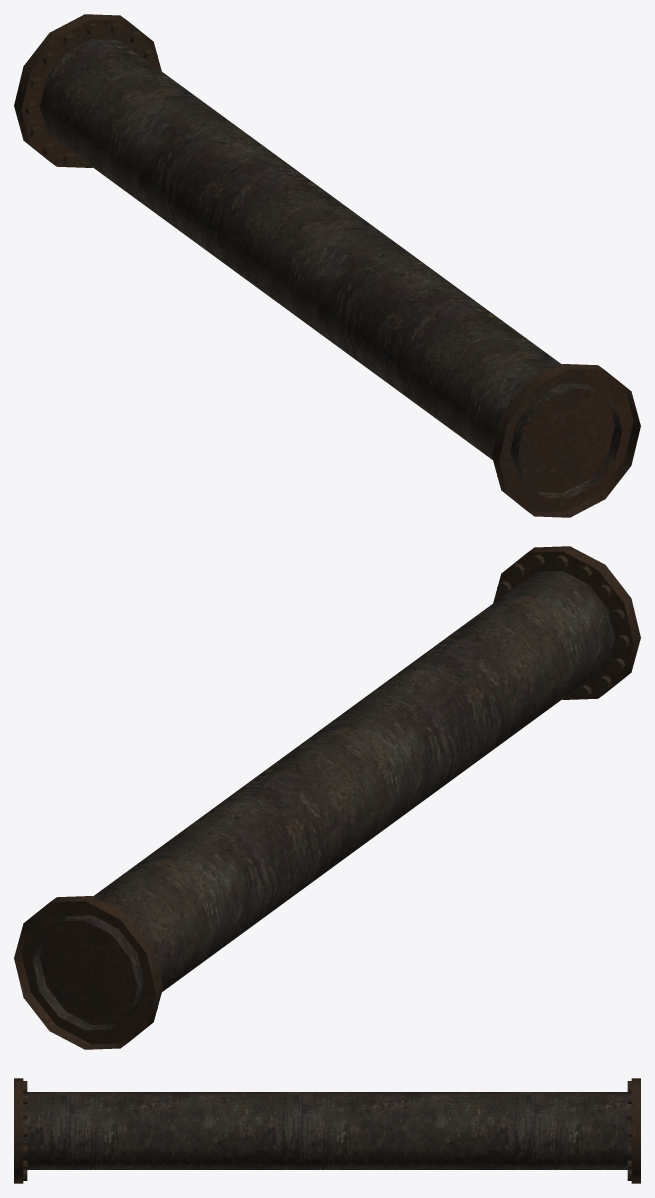
The model's file is pipe_bx_1.obj.
3 renders of one model, top to bottom at view 1: azimuth 30°, elevation 25°; view 2: azimuth 150°, elevation 25°; view 3: azimuth 270°, elevation 25°, orthographic. The views are drawn at different scales.
Visible parts, largest first — view 1: pipe_bx_1; view 2: pipe_bx_1; view 3: pipe_bx_1.
Part boxes in pixels (<box>): pipe_bx_1: <box>14,14,640,517</box>; pipe_bx_1: <box>14,546,640,1049</box>; pipe_bx_1: <box>14,1078,640,1183</box>.
Size of the model in its own units: 0.676 by 0.676 by 4.
